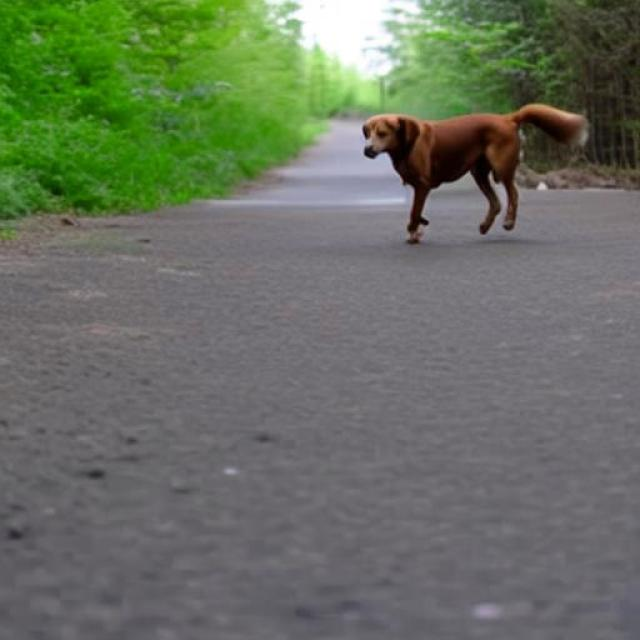Dog: (362, 104, 588, 244)
